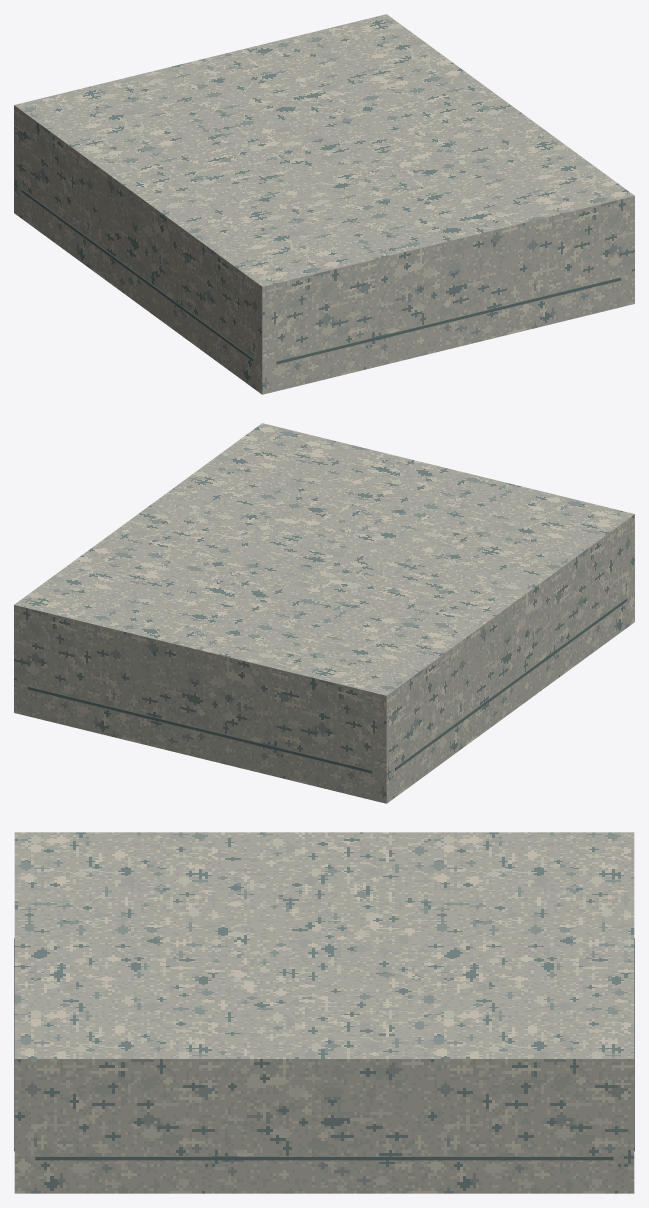
Rendered from b_platform_lower_base.glb.
The picture shows the model from 3 angles, top to bottom: view 1: azimuth 30°, elevation 25°; view 2: azimuth 150°, elevation 25°; view 3: azimuth 270°, elevation 25°; orthographic projection. The views are drawn at different scales.
Visible parts, largest first — view 1: b_platform_lower_base, b_platform_lower_base_front_reveal_1, b_platform_lower_base_side_reveal_-1; view 2: b_platform_lower_base, b_platform_lower_base_front_reveal_-1, b_platform_lower_base_side_reveal_-1; view 3: b_platform_lower_base, b_platform_lower_base_side_reveal_1.
Boxes of the visible parts, x1,y1,x2,y2 form: b_platform_lower_base: [14, 14, 634, 394]; b_platform_lower_base_front_reveal_1: [276, 277, 620, 364]; b_platform_lower_base_side_reveal_-1: [21, 189, 253, 361]; b_platform_lower_base: [14, 423, 634, 803]; b_platform_lower_base_front_reveal_-1: [28, 686, 372, 773]; b_platform_lower_base_side_reveal_-1: [395, 598, 627, 770]; b_platform_lower_base: [14, 832, 634, 1193]; b_platform_lower_base_side_reveal_1: [35, 1156, 613, 1160].
Bounding box in the file's own units: 1.3 × 0.36 × 1.5.
Materials: 2 (1 with a texture image).
